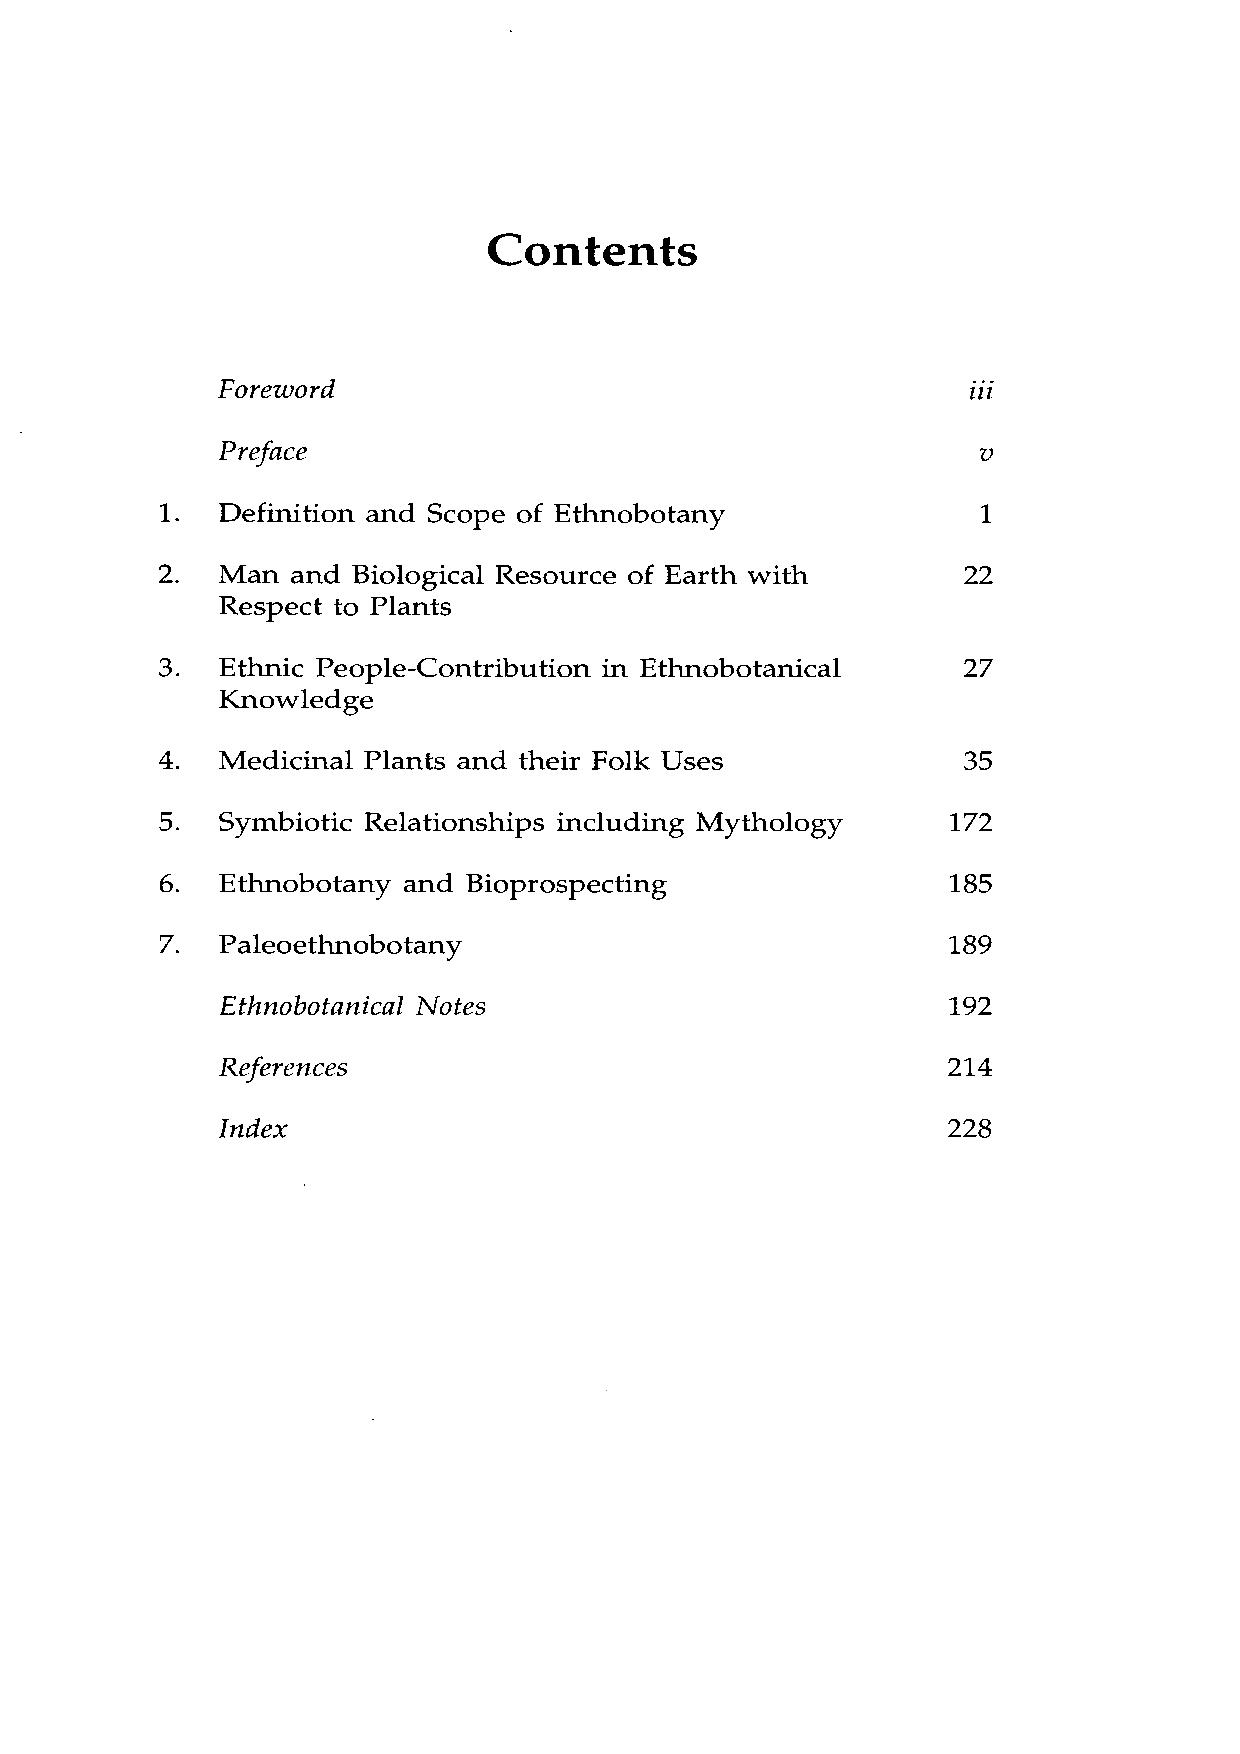TOC_chapter: (156, 652, 839, 715), (152, 557, 809, 619), (153, 807, 841, 841), (156, 498, 725, 531), (158, 867, 671, 902), (156, 745, 726, 776), (156, 929, 462, 961), (217, 994, 486, 1020), (213, 1052, 350, 1084), (213, 372, 338, 403), (213, 431, 311, 466), (213, 1114, 286, 1142)
TOC_pagenumber: (941, 927, 994, 958), (943, 807, 994, 837), (943, 989, 994, 1019), (955, 741, 996, 774), (947, 1114, 992, 1143), (960, 370, 998, 404), (943, 871, 994, 894), (946, 1053, 993, 1078), (955, 652, 993, 680), (960, 564, 998, 590), (974, 501, 1000, 526), (974, 437, 997, 464)
chapter: (484, 229, 701, 271)
